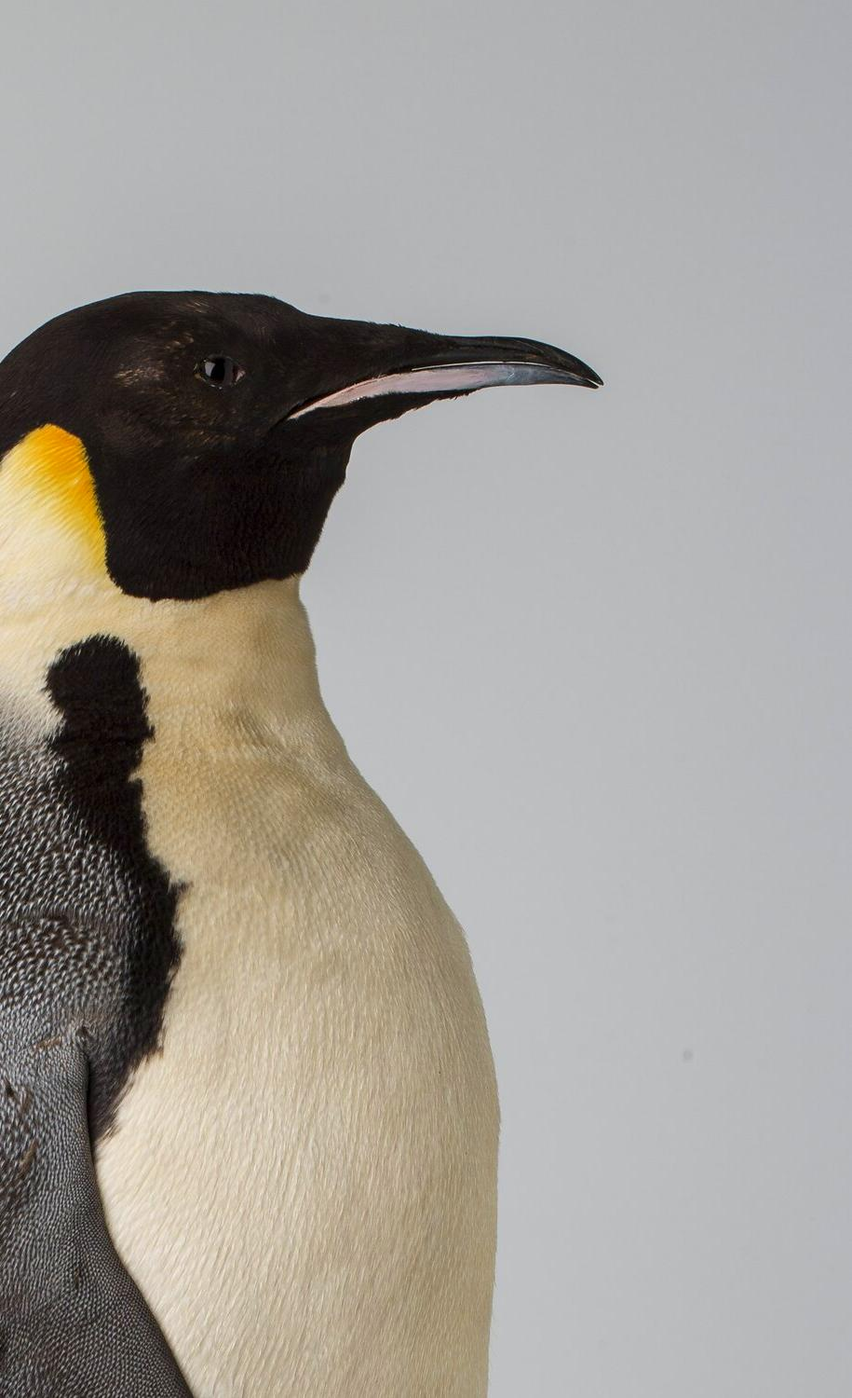Emperor Penguin: (0, 186, 713, 1398)
